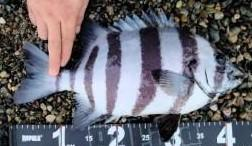fish: (14, 10, 243, 139)
